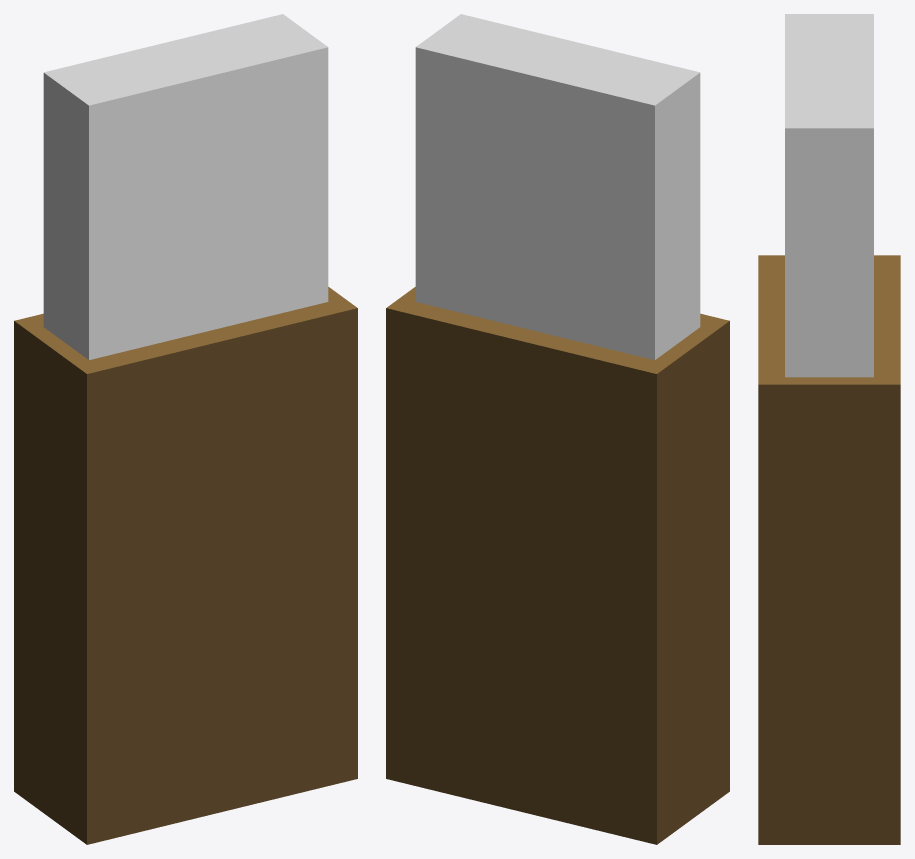
Rendered from expositor 4.fbx.
3 renders of one model, left to right at view 1: azimuth 30°, elevation 25°; view 2: azimuth 150°, elevation 25°; view 3: azimuth 270°, elevation 25°, orthographic. The views are drawn at different scales.
Visible parts, largest first — view 1: Expositor 4; view 2: Expositor 4; view 3: Expositor 4.
Part boxes in pixels (left/top/right/bottom): Expositor 4: left=14, top=14, right=357, bottom=844; Expositor 4: left=386, top=14, right=729, bottom=844; Expositor 4: left=758, top=14, right=900, bottom=844.
Bounding box in the file's own units: 145 × 371 × 67.53.
